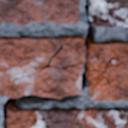brick: (0, 36, 84, 96), (7, 108, 127, 127), (89, 41, 127, 100), (0, 0, 78, 24), (91, 0, 127, 27), (89, 42, 114, 68)
crack: (2, 0, 126, 127)
